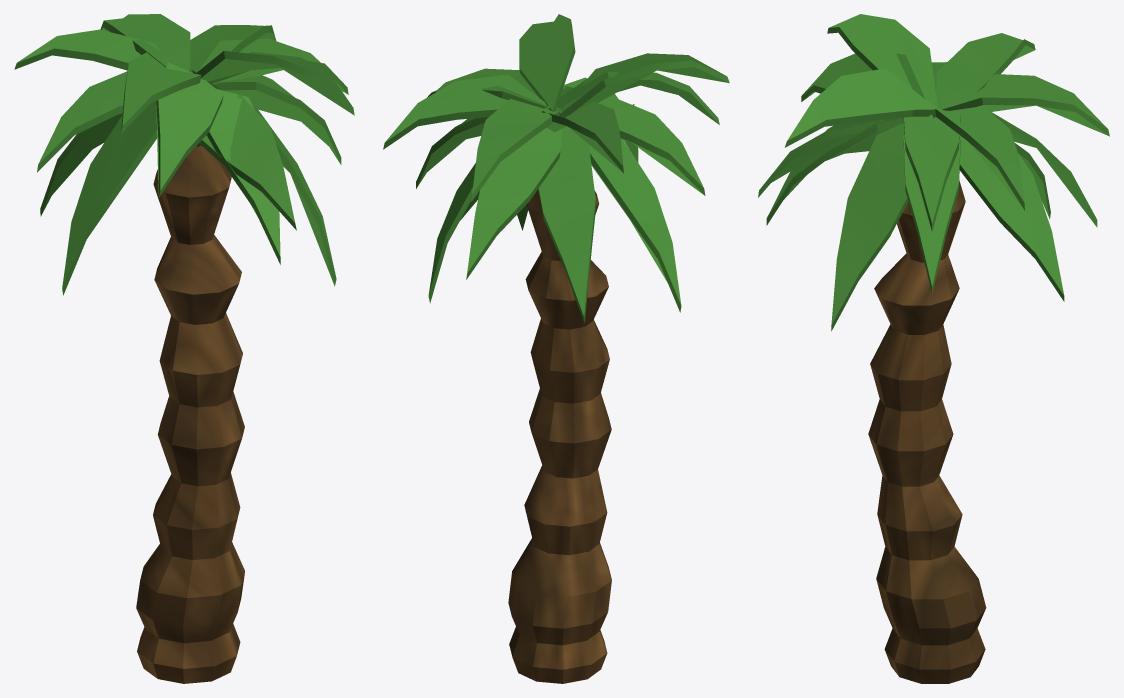
Rendered from palmiye ağacı.fbx.
The picture shows the model from 3 angles, left to right: view 1: azimuth 30°, elevation 25°; view 2: azimuth 150°, elevation 25°; view 3: azimuth 270°, elevation 25°; orthographic projection. The views are drawn at different scales.
Visible parts, largest first — view 1: Icosphere; view 2: Icosphere; view 3: Icosphere.
Boxes of the visible parts, <box> form: Icosphere: <box>14,14,354,683</box>; Icosphere: <box>383,14,729,683</box>; Icosphere: <box>758,14,1109,683</box>.
Bounding box in the file's own units: 322 × 629 × 329.
Materials: 1 (1 with a texture image).
